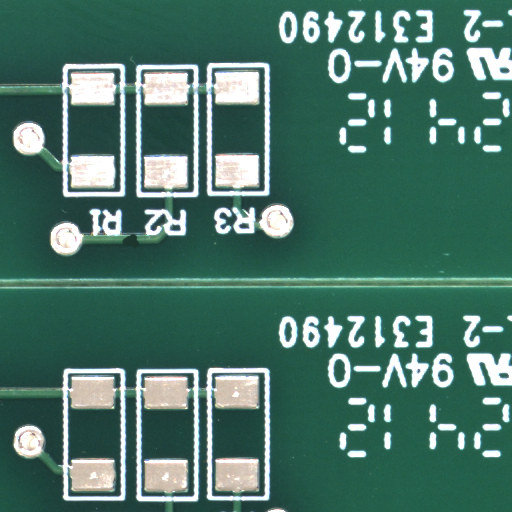Mouse_bite: (131, 240, 148, 253)
